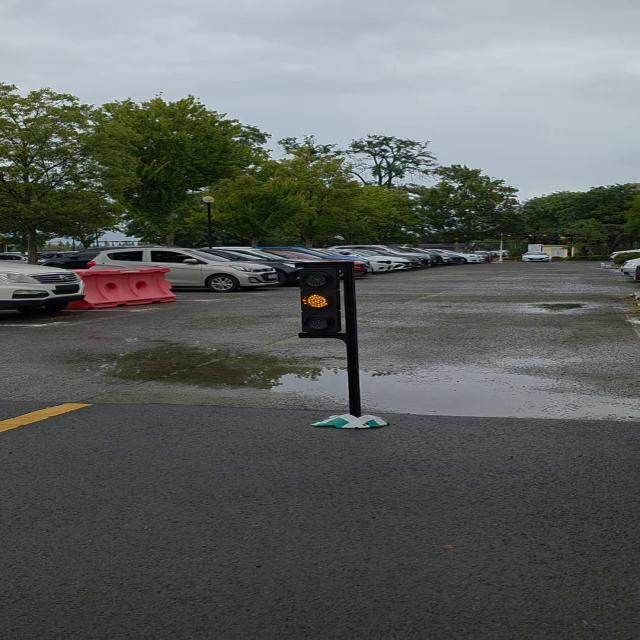yellow: (296, 262, 350, 338)
